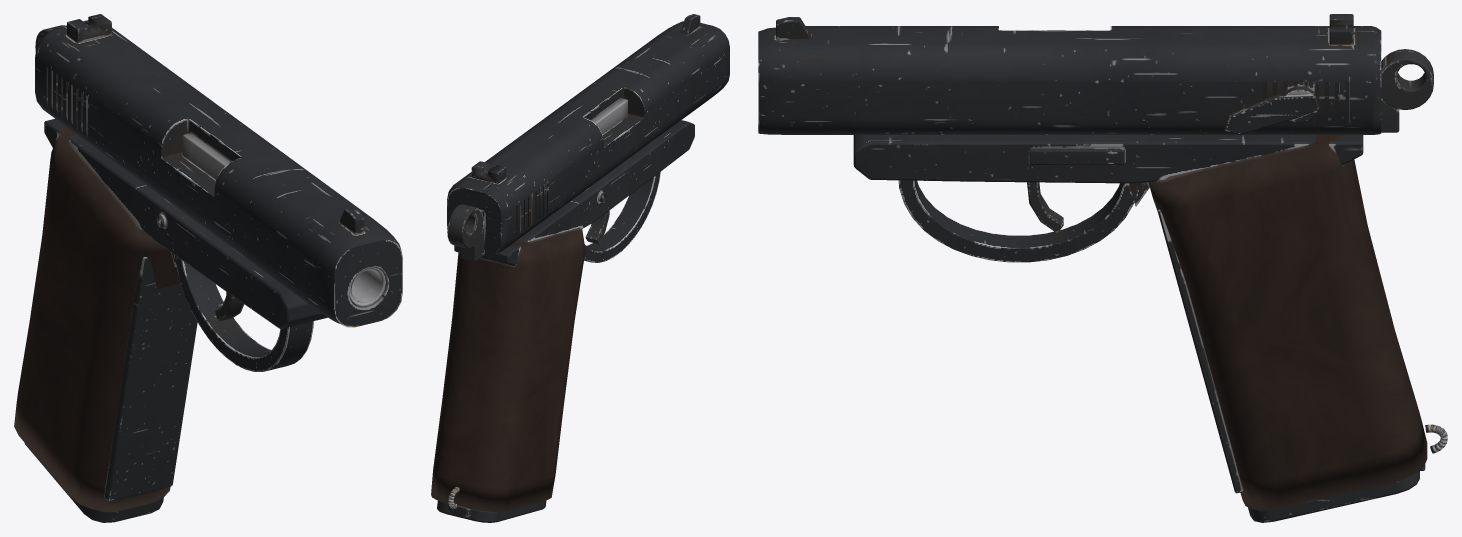
3 views of the same model, side by side, from view 1: azimuth 30°, elevation 25°; view 2: azimuth 150°, elevation 25°; view 3: azimuth 270°, elevation 25° (orthographic). The views are drawn at different scales.
Parts seen in each view (by area): view 1: Body, Bolt, Mag; view 2: Body, Bolt, Mag; view 3: Body, Bolt, Mag.
Boxes of the visible parts, <box> form: Body: <box>14,25,327,511</box>; Bolt: <box>35,14,402,327</box>; Mag: <box>24,443,163,522</box>; Body: <box>431,120,694,517</box>; Bolt: <box>447,14,729,255</box>; Mag: <box>437,500,546,522</box>; Body: <box>853,49,1447,510</box>; Bolt: <box>758,14,1381,134</box>; Mag: <box>1248,471,1419,522</box>.
Size of the model in its own units: 0.0308 by 0.1355 by 0.1732.
